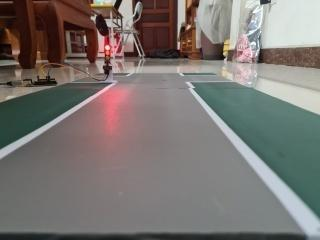red: (101, 43, 118, 68)
